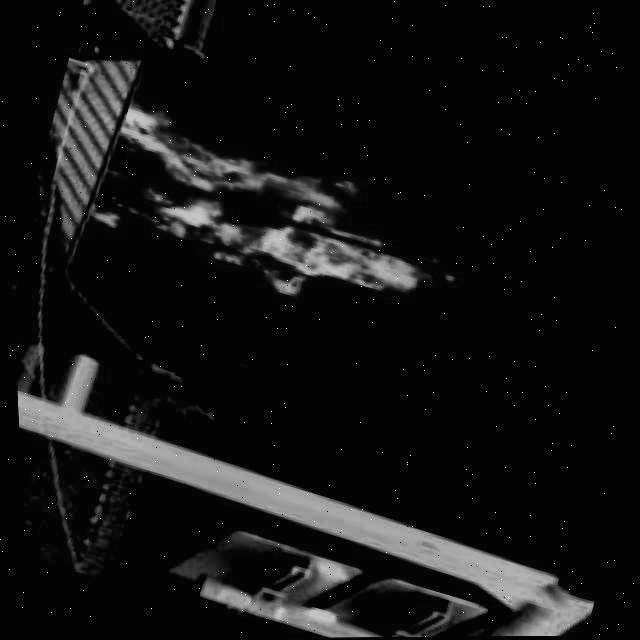Fire: (75, 99, 461, 342)
